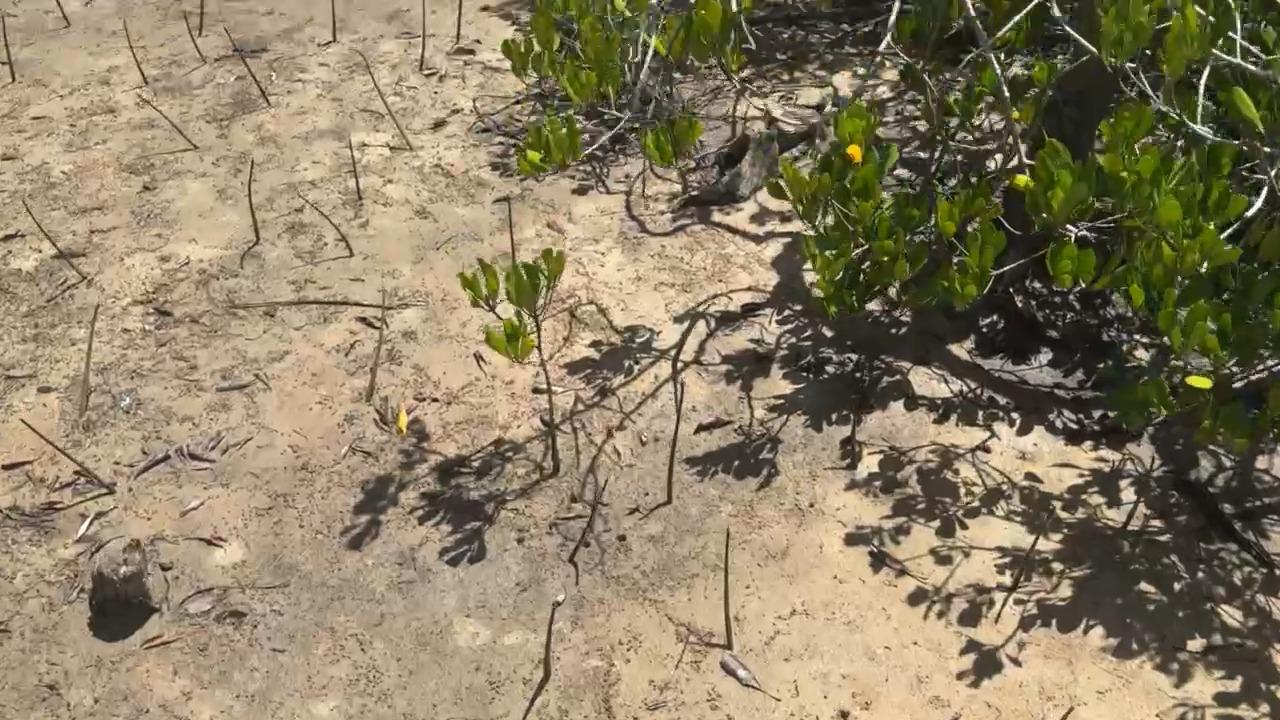Tree: (453, 247, 566, 478), (18, 417, 114, 495), (348, 48, 413, 148), (22, 197, 86, 278), (1004, 505, 1054, 589), (223, 25, 271, 108), (295, 191, 354, 256), (134, 90, 198, 149), (1117, 455, 1156, 530), (365, 281, 387, 402), (78, 302, 101, 416), (665, 377, 686, 501), (493, 194, 520, 264), (123, 17, 149, 86), (723, 526, 736, 650), (542, 601, 558, 681), (183, 10, 206, 65), (247, 158, 261, 241), (1, 14, 16, 81), (346, 135, 360, 199), (418, 0, 426, 70), (55, 0, 70, 27), (454, 0, 462, 46), (330, 0, 337, 43), (198, 0, 205, 38)
